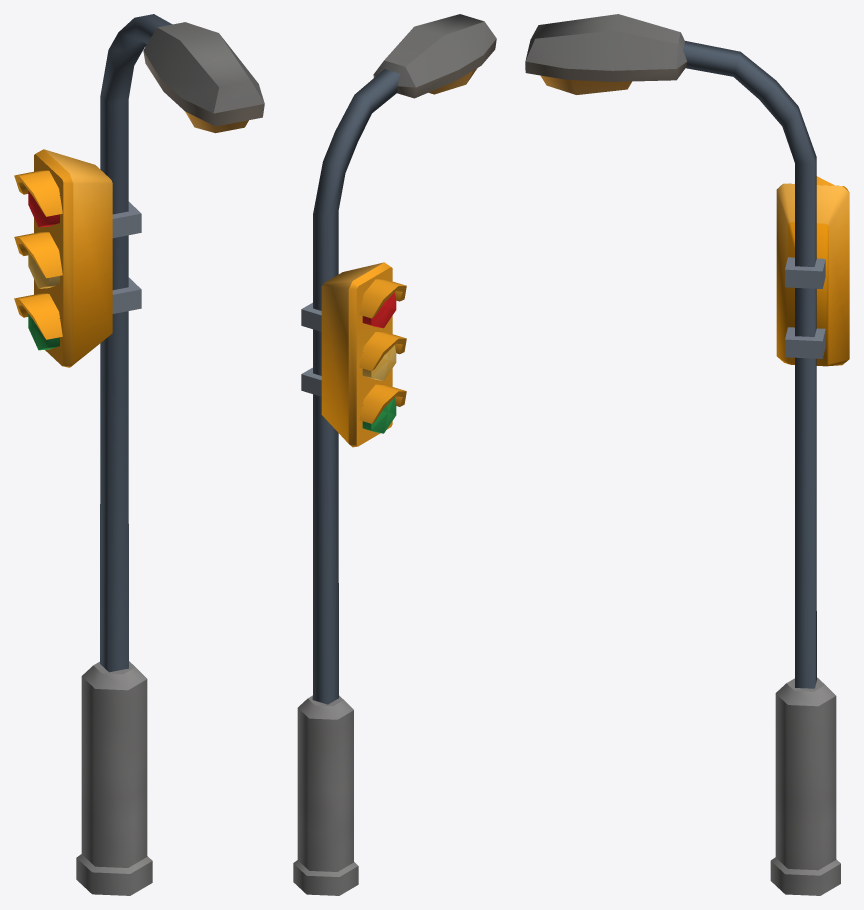
File: Lights_7_A.fbx
3 renders of one model, left to right at view 1: azimuth 30°, elevation 25°; view 2: azimuth 150°, elevation 25°; view 3: azimuth 270°, elevation 25°, orthographic. The views are drawn at different scales.
Visible parts, largest first — view 1: Lights_7_A; view 2: Lights_7_A; view 3: Lights_7_A.
Part boxes in pixels (bbox=[...]): Lights_7_A: bbox=[14, 14, 264, 895]; Lights_7_A: bbox=[293, 14, 496, 895]; Lights_7_A: bbox=[525, 14, 849, 895].
Bounding box in the file's own units: 57.5 × 423 × 146.
